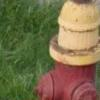Hydrant: (28, 3, 100, 100)
